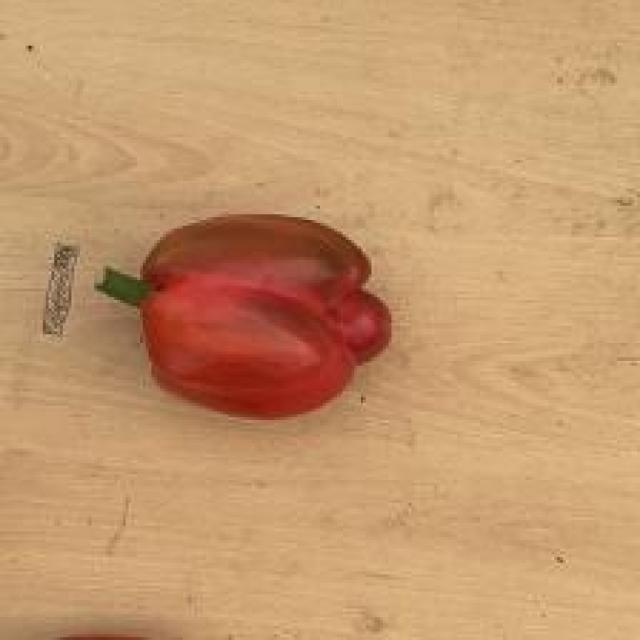Pepper: (97, 214, 394, 423)
